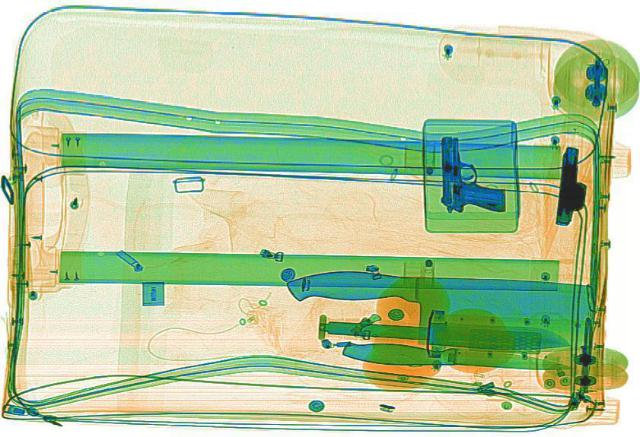Gun: (438, 135, 507, 212), (548, 145, 596, 226)
Knife: (278, 266, 596, 353), (318, 311, 572, 354), (336, 336, 570, 379)
